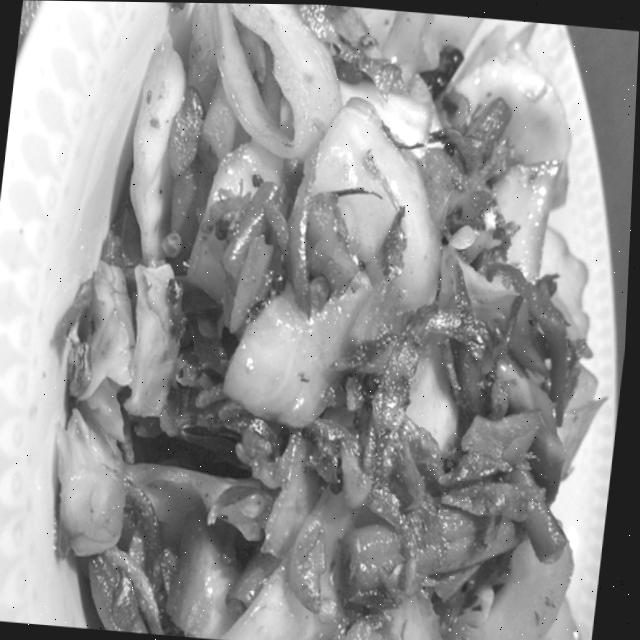蔬菜料理: (44, 1, 640, 640)
